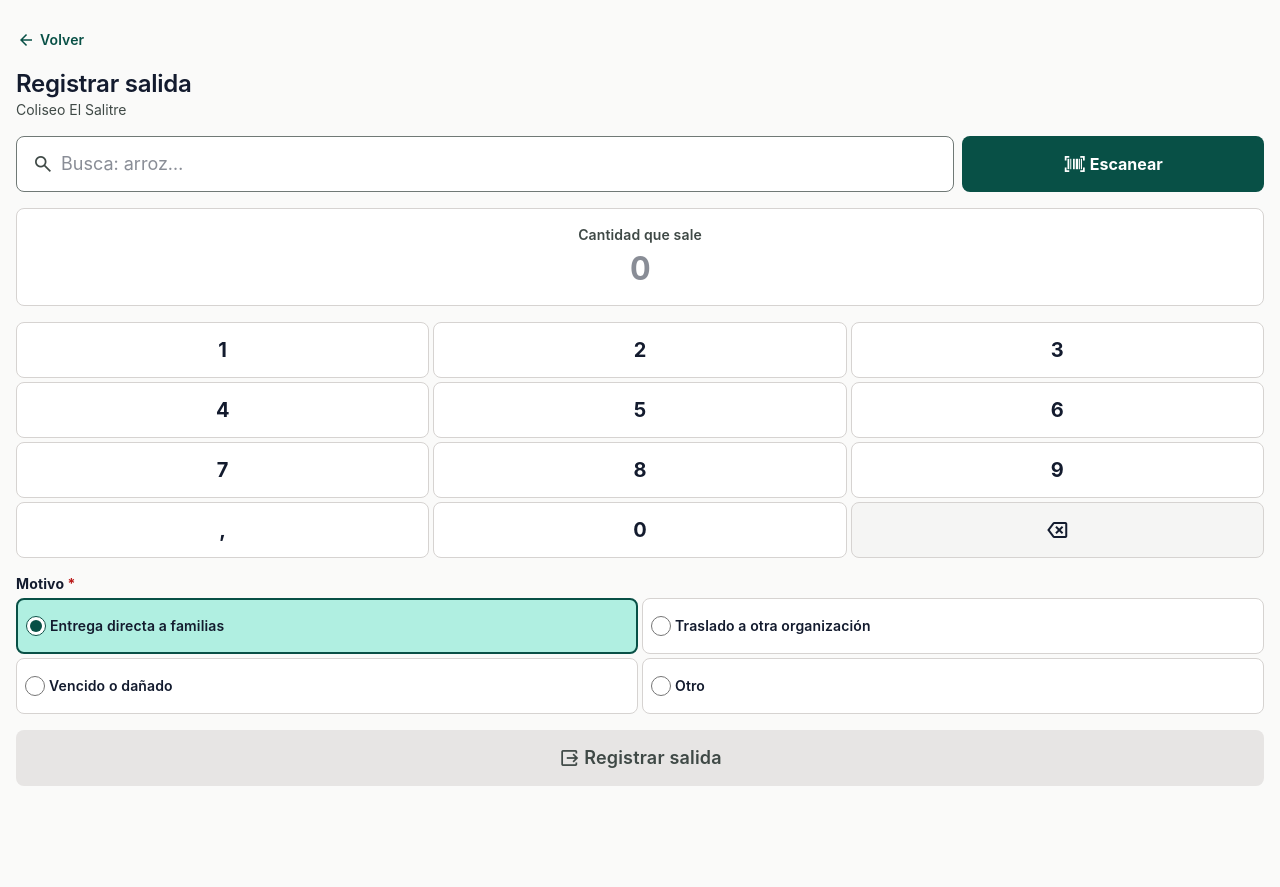
Scenario: C5 Salida › muestra el saldo con su semáforo y, en perecederos, lo que vence primero
Type "arroz" into the search field named "Categoría". click: (485, 164)
box: [16, 136, 954, 192]
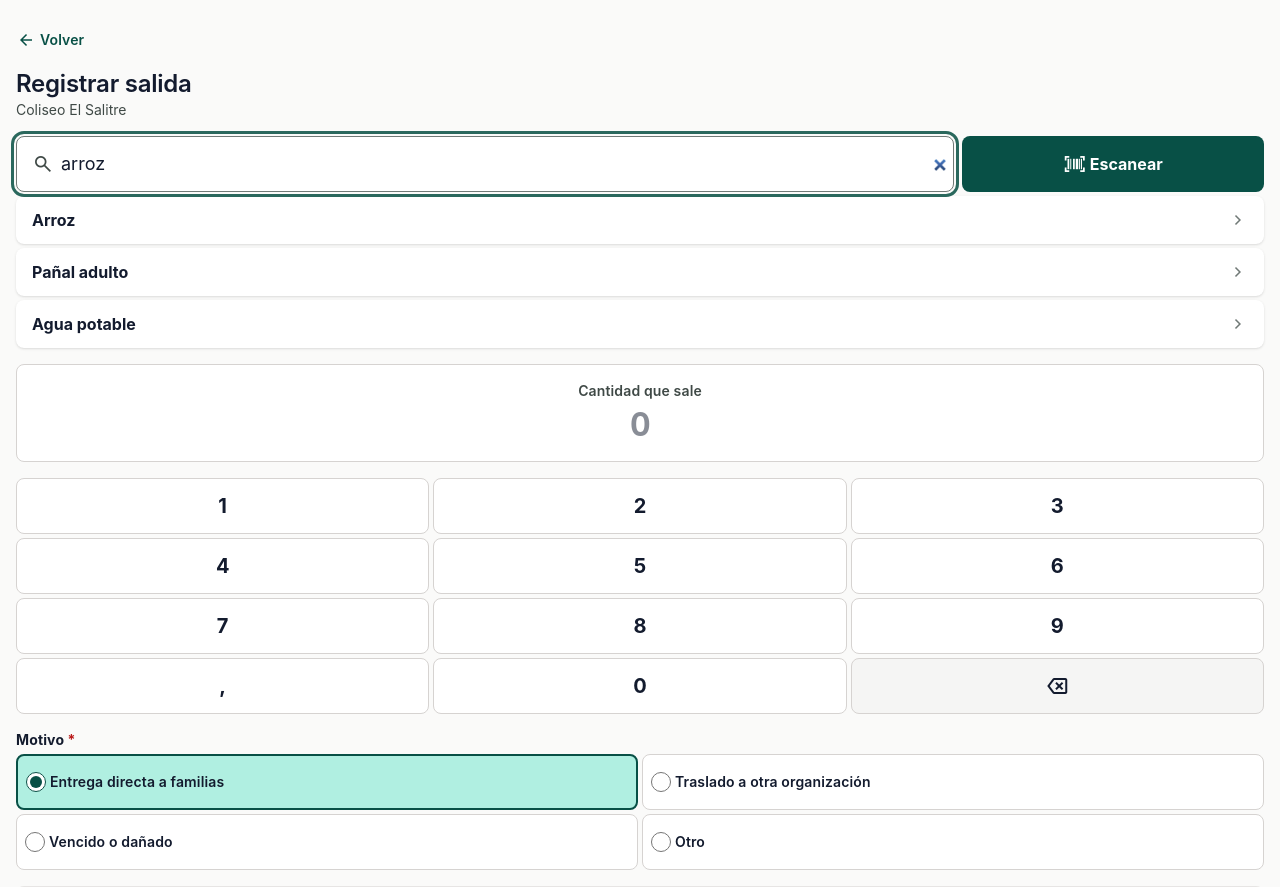
Click the button "Arroz". click: (54, 220)
box: [16, 196, 1264, 244]
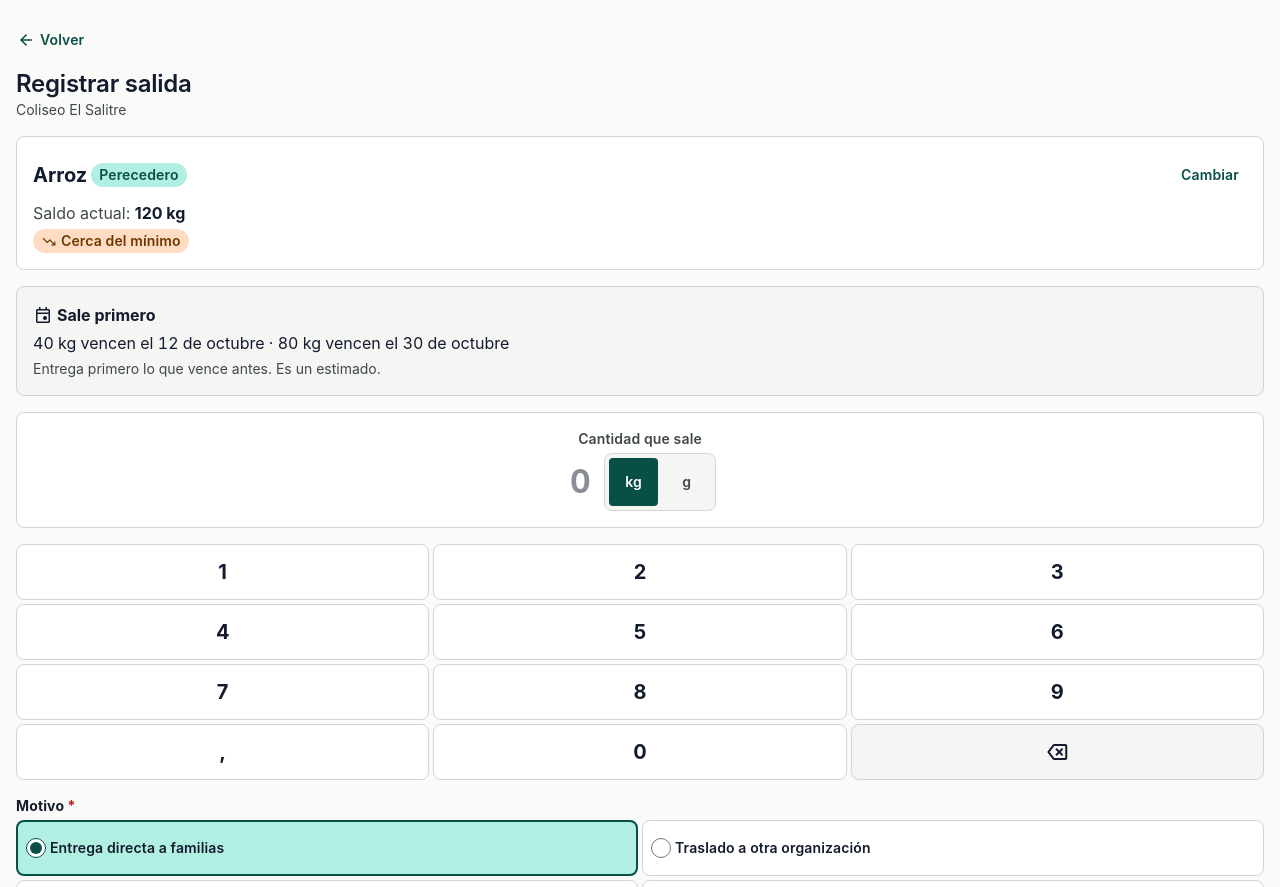
Expected: the element named "Categoría elegida" shows "Saldo actual: 120 kg", [16, 136, 1264, 270]
Expected: the element named "Categoría elegida" shows "Cerca del mínimo", [61, 232, 181, 249]
Expected: the element "Sale primero" shows "40 kg vencen el 12 de octubre", [33, 333, 509, 353]
